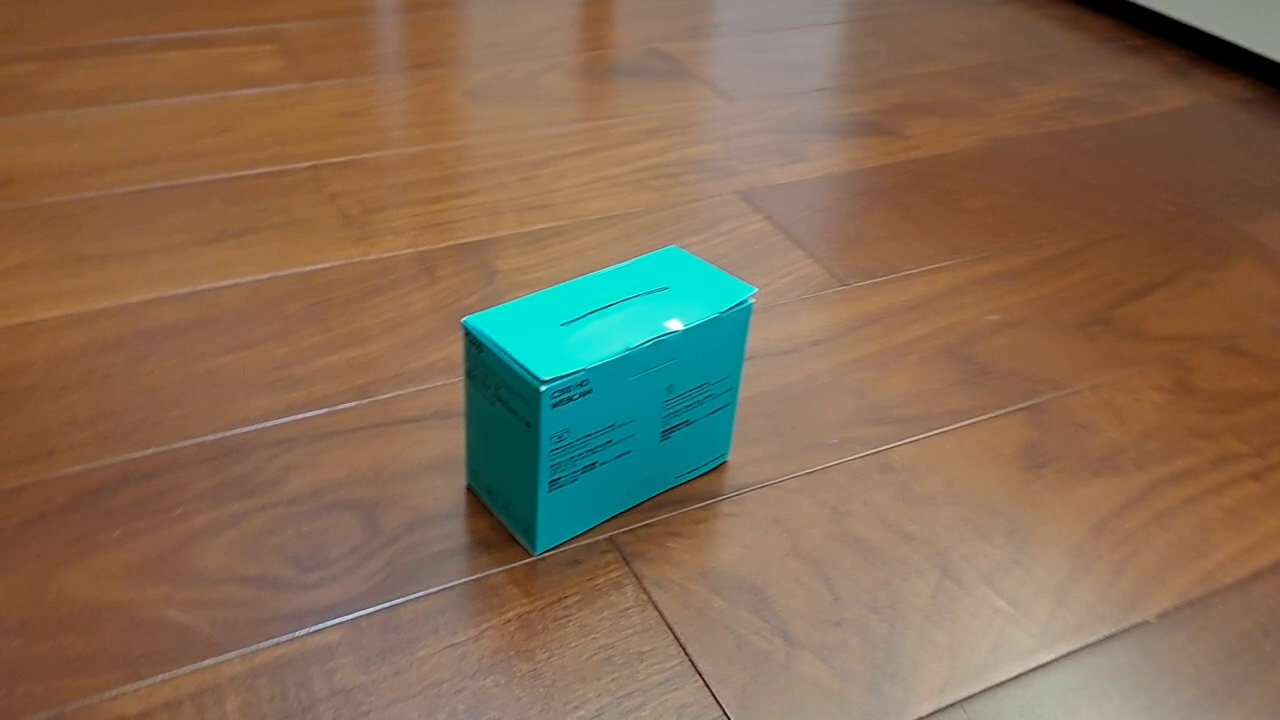webcam: (458, 244, 760, 559)
